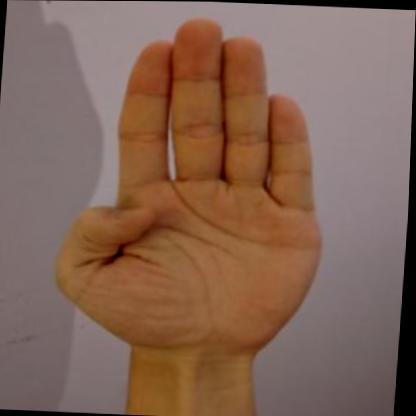B: (24, 0, 364, 386)
